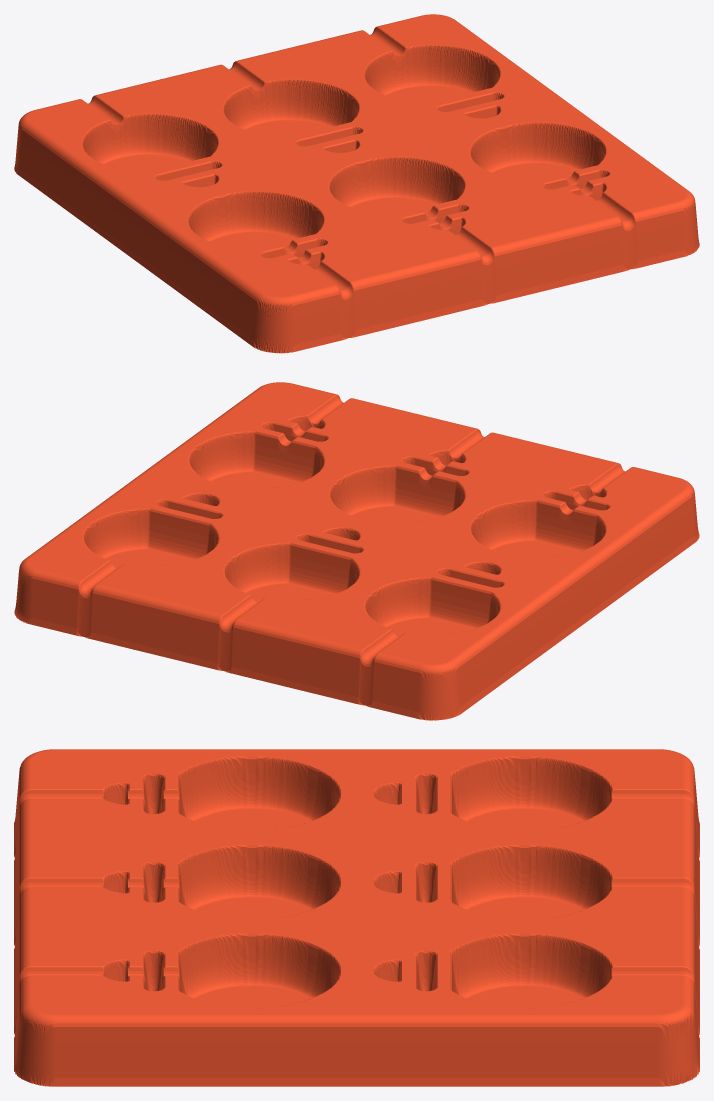
The model's file is mold.glb.
The picture shows the model from 3 angles, top to bottom: view 1: azimuth 30°, elevation 25°; view 2: azimuth 150°, elevation 25°; view 3: azimuth 270°, elevation 25°; orthographic projection. The views are drawn at different scales.
Visible parts, largest first — view 1: geometry_0; view 2: geometry_0; view 3: geometry_0.
Part boxes in pixels (bbox=[...]): geometry_0: bbox=[14, 14, 699, 353]; geometry_0: bbox=[14, 382, 699, 720]; geometry_0: bbox=[14, 749, 699, 1086].
Size of the model in its own units: 0.1419 by 0.0155 by 0.1477.
